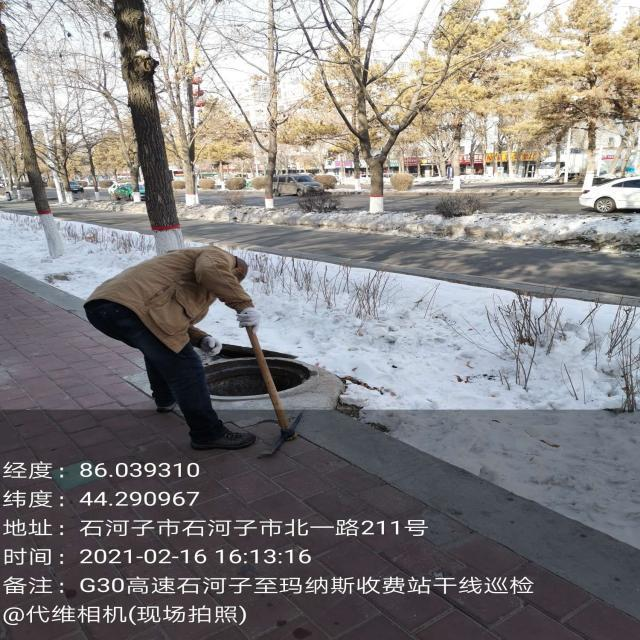manhole: (205, 359, 266, 396), (268, 359, 310, 391)
